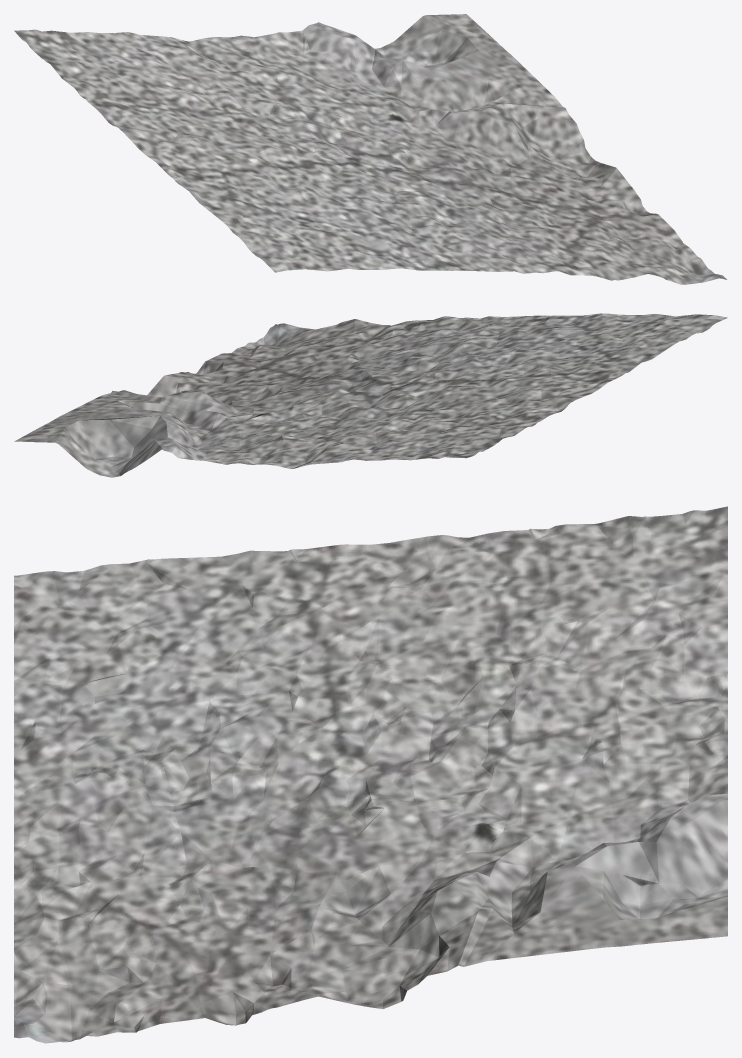
3 renders of one model, top to bottom at view 1: azimuth 30°, elevation 25°; view 2: azimuth 150°, elevation 25°; view 3: azimuth 270°, elevation 25°, orthographic. The views are drawn at different scales.
Bounding box in the file's own units: 0.8374 × 0.3102 × 0.8374.
3 materials, 3 textured.
